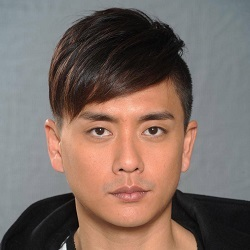unmask: (61, 94, 188, 227)
